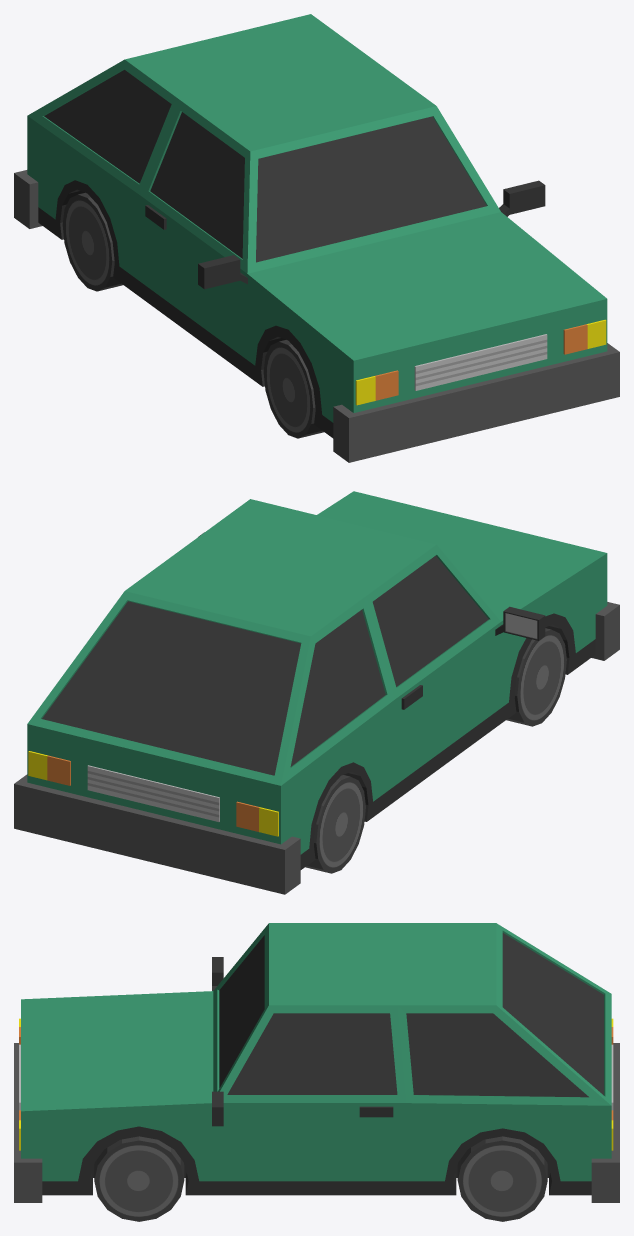
The model's file is car01_color02.fbx.
The picture shows the model from 3 angles, top to bottom: view 1: azimuth 30°, elevation 25°; view 2: azimuth 150°, elevation 25°; view 3: azimuth 270°, elevation 25°; orthographic projection. The views are drawn at different scales.
Visible parts, largest first — view 1: Cube.489, Cube.490, Cube.493; view 2: Cube.489, Cube.493, Cube.490; view 3: Cube.489, Cube.491, Cube.492.
Part boxes in pixels (x1,y1,x2,y2): Cube.489: (14,14,619,462); Cube.490: (263,340,323,438); Cube.493: (62,192,122,291); Cube.489: (14,491,619,894); Cube.493: (305,775,365,873); Cube.490: (506,628,566,726); Cube.489: (14,923,619,1202); Cube.491: (457,1136,547,1221); Cube.492: (94,1136,184,1221).
Size of the model in its own units: 269 by 168 by 457.
